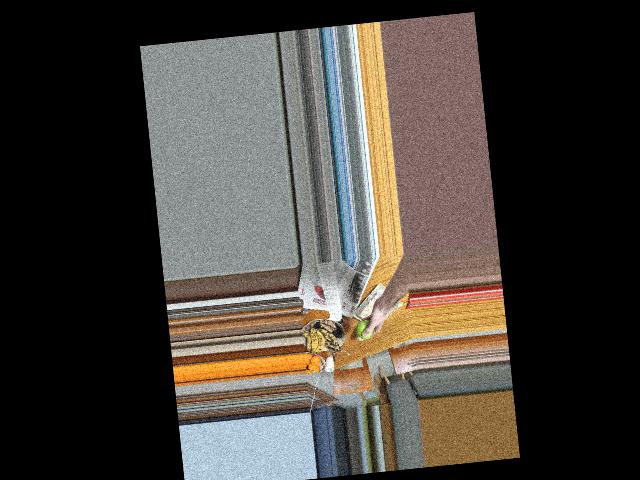apple: (354, 318, 375, 340)
